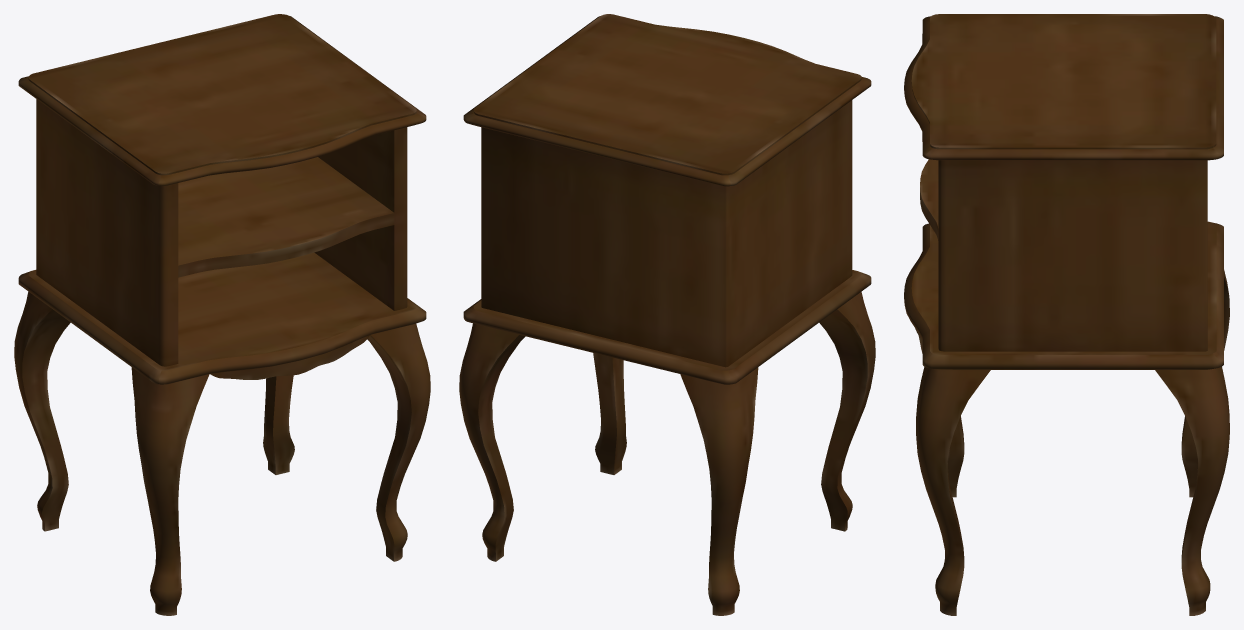
The model's file is SM_bedside_table_6bac86.glb.
3 views of the same model, side by side, from view 1: azimuth 30°, elevation 25°; view 2: azimuth 150°, elevation 25°; view 3: azimuth 270°, elevation 25° (orthographic). The views are drawn at different scales.
Size of the model in its own units: 0.4447 by 0.6709 by 0.4195.
1 material, 1 textured.
